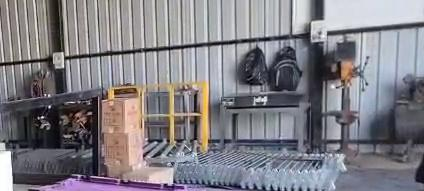box: (30, 176, 186, 190)
